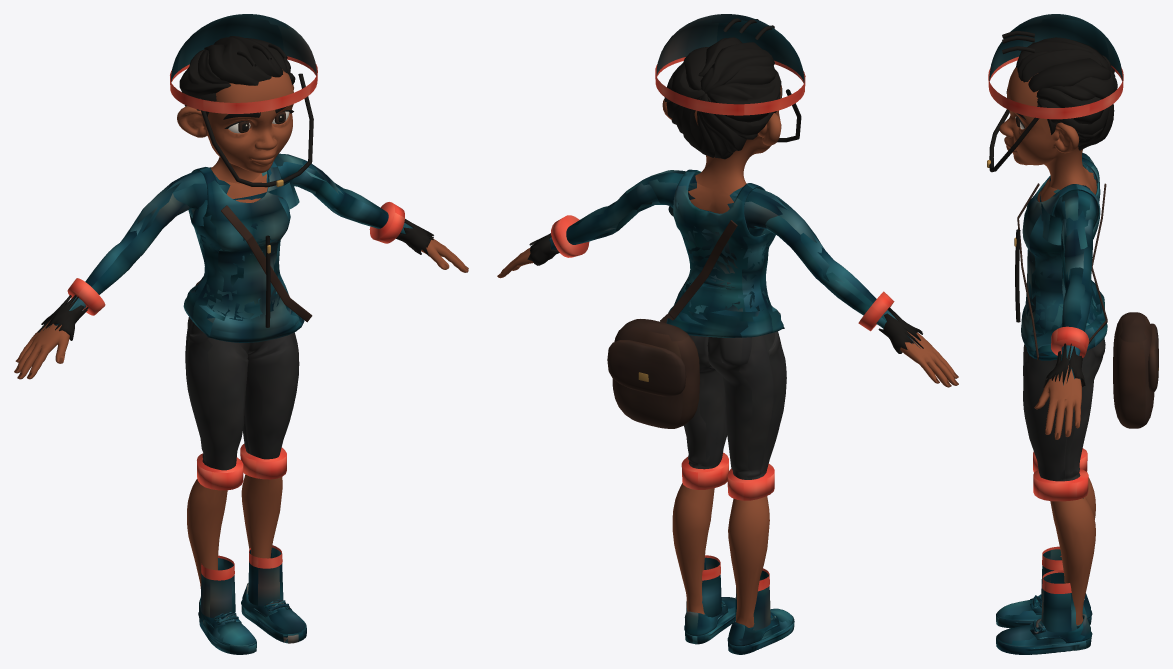
File: kiran-v1-static.glb
3 renders of one model, left to right at view 1: azimuth 30°, elevation 25°; view 2: azimuth 150°, elevation 25°; view 3: azimuth 270°, elevation 25°, orthographic.
Visible parts, largest first — view 1: KiranV1.StaticVisualCheckpoint; view 2: KiranV1.StaticVisualCheckpoint; view 3: KiranV1.StaticVisualCheckpoint.
Boxes of the visible parts, x1,y1,x2,y2 form: KiranV1.StaticVisualCheckpoint: (14, 14, 468, 654); KiranV1.StaticVisualCheckpoint: (497, 14, 958, 654); KiranV1.StaticVisualCheckpoint: (987, 14, 1158, 654).
Bounding box in the file's own units: 1.14 × 1.46 × 0.3717.
10 materials, 5 textured.
